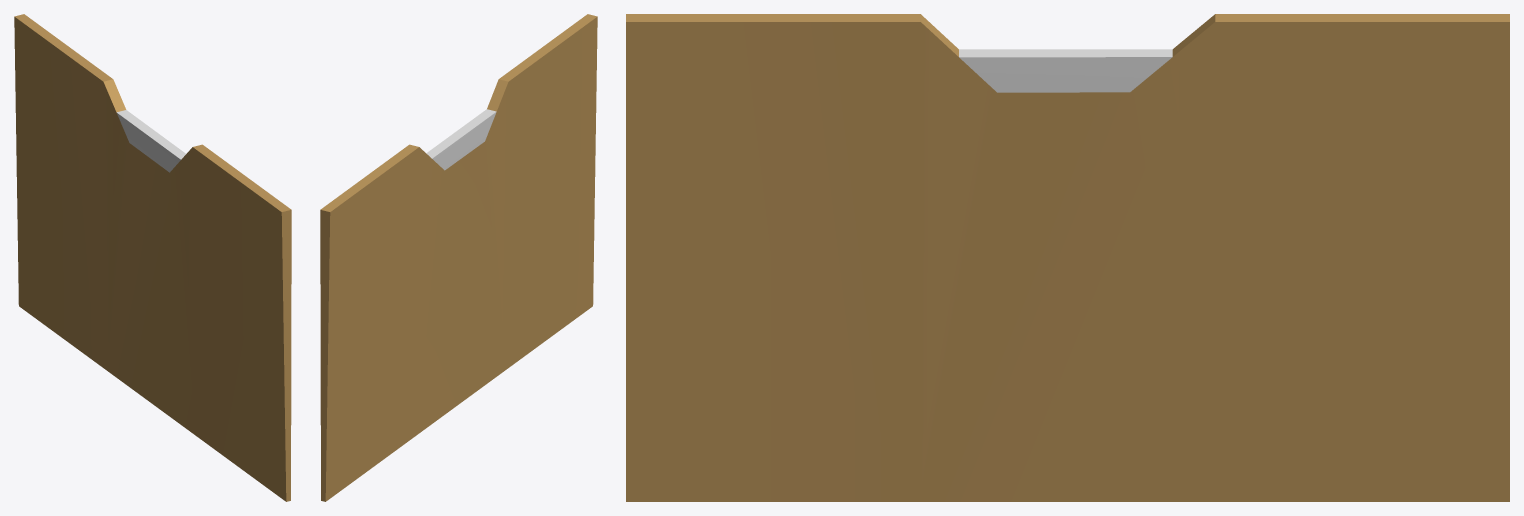
The model's file is BusinessWoman_Coffee_Cup.fbx.
3 views of the same model, side by side, from view 1: azimuth 30°, elevation 25°; view 2: azimuth 150°, elevation 25°; view 3: azimuth 270°, elevation 25° (orthographic). The views are drawn at different scales.
Parts seen in each view (by area): view 1: BusinessWoman_Folder; view 2: BusinessWoman_Folder; view 3: BusinessWoman_Folder.
Boxes of the visible parts, x1,y1,x2,y2 form: BusinessWoman_Folder: [14, 14, 291, 501]; BusinessWoman_Folder: [320, 14, 597, 501]; BusinessWoman_Folder: [626, 14, 1509, 501].
Bounding box in the file's own units: 0.8507 × 23.22 × 38.69.
